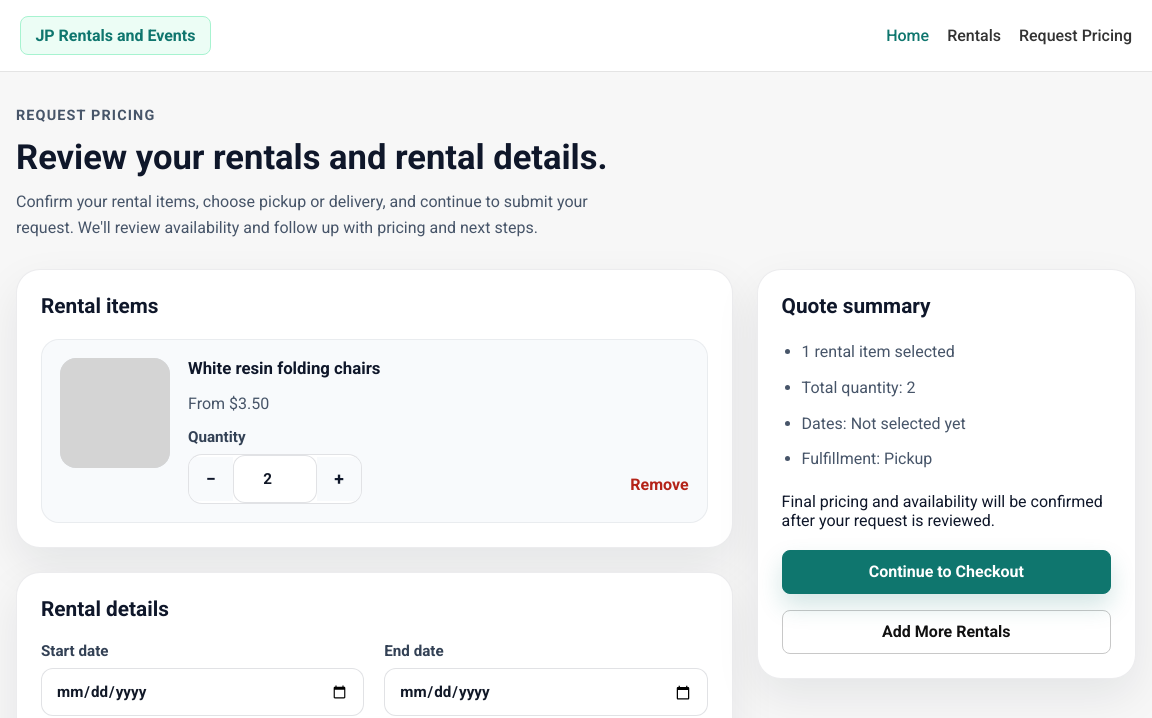
Test: QuotePage › shows a form-level error summary when the quote is invalid
Click the button with aria-label "continue to checkout from quote summary". click: (946, 572)
box: [782,550,1111,594]
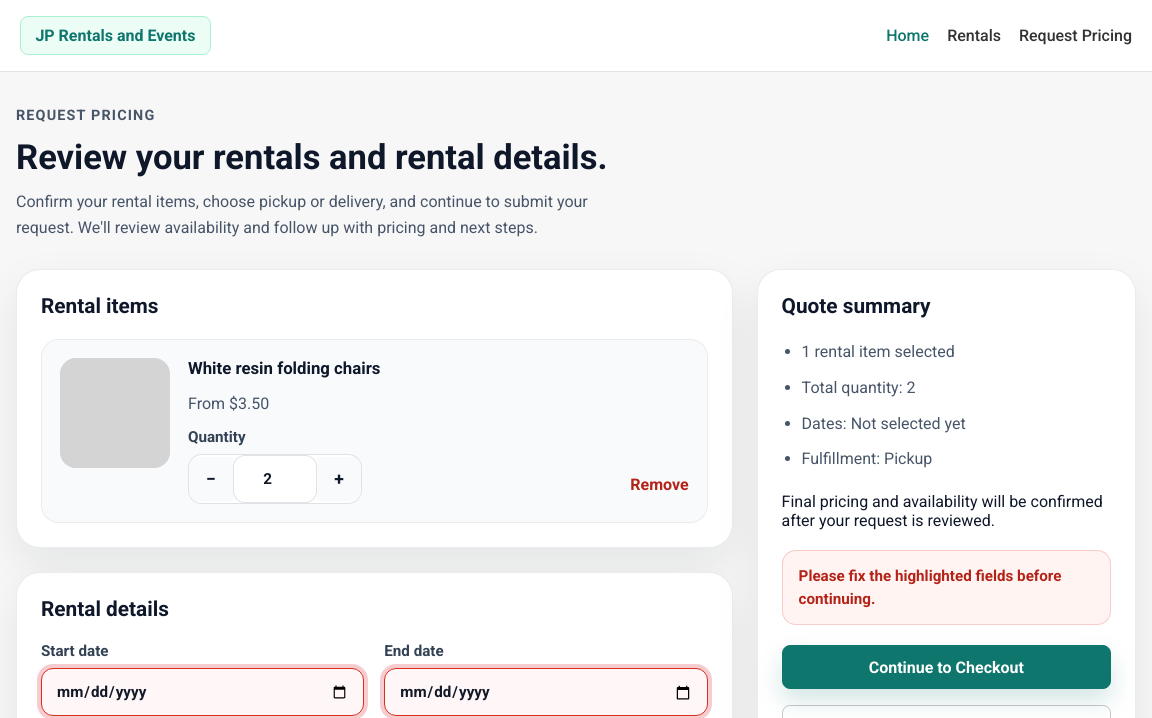
Result: the text "Please fix the highlighted fields before continuing." is shown at [782,550,1111,625]
